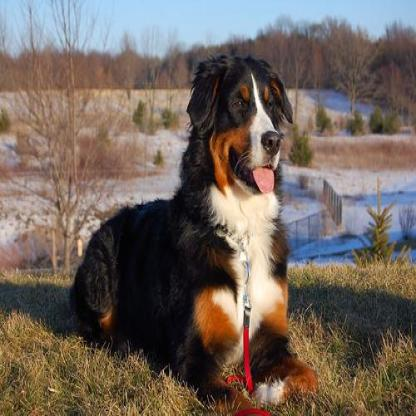Bernese_mountain_dog: (67, 54, 318, 411)
